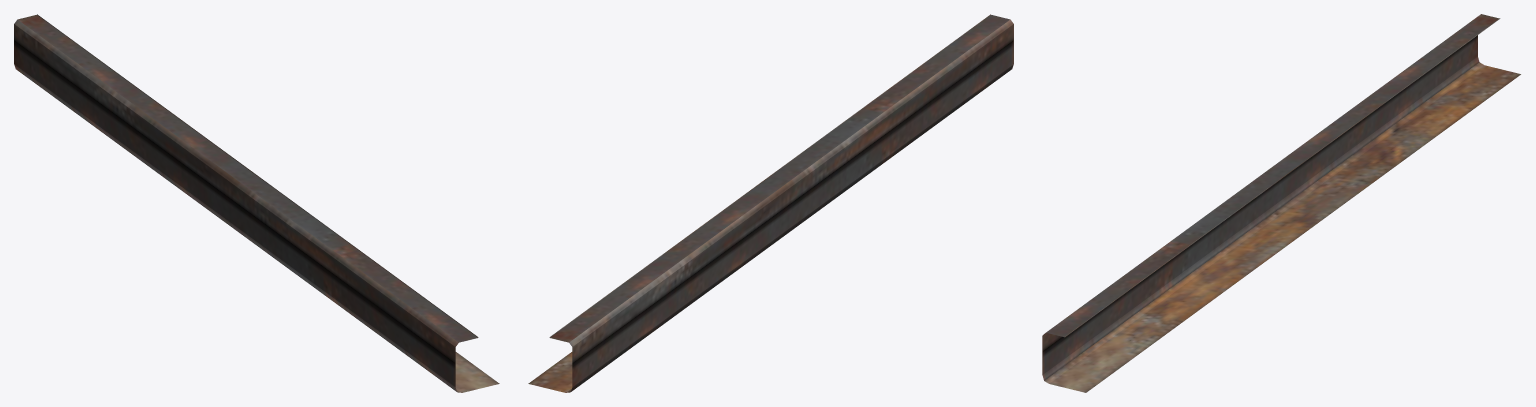
The model's file is railing_007.glb.
The picture shows the model from 3 angles, left to right: view 1: azimuth 30°, elevation 25°; view 2: azimuth 150°, elevation 25°; view 3: azimuth 330°, elevation 25°; orthographic projection.
Parts seen in each view (by area): view 1: Building_12_090; view 2: Building_12_090; view 3: Building_12_090.
Part boxes in pixels (box(x1,y1,x2,y2)): Building_12_090: box(14, 14, 499, 392); Building_12_090: box(528, 14, 1013, 392); Building_12_090: box(1042, 14, 1520, 392).
Bounding box in the file's own units: 0.0578 × 0.0648 × 1.
Materials: 1 (1 with a texture image).
